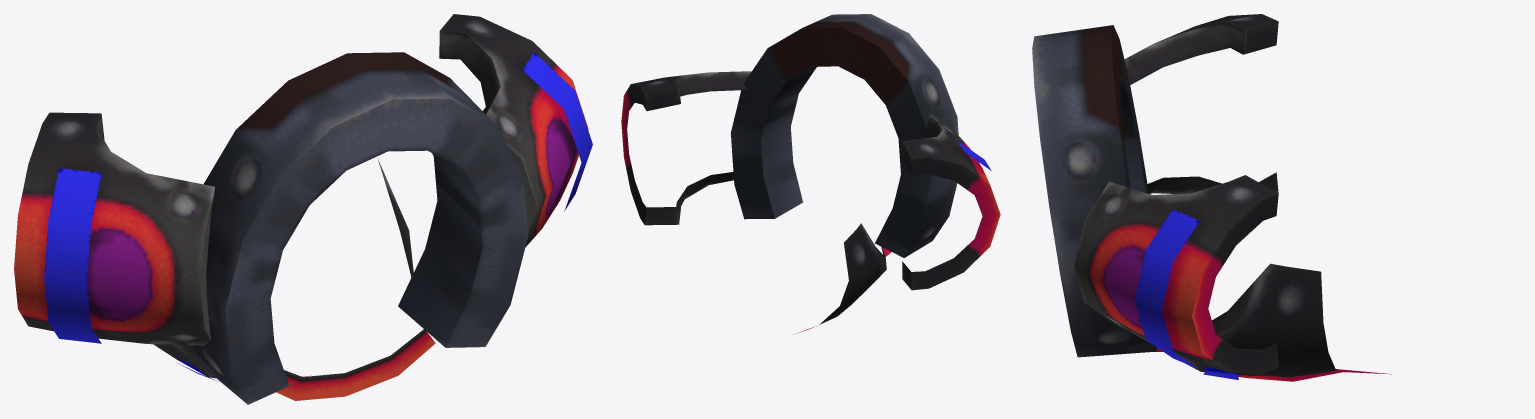
Rendered from Part_Ranger_chest.glb.
3 views of the same model, side by side, from view 1: azimuth 30°, elevation 25°; view 2: azimuth 150°, elevation 25°; view 3: azimuth 270°, elevation 25° (orthographic). The views are drawn at different scales.
Parts seen in each view (by area): view 1: parts.model_r_chest_fixed-Mesh[0]; view 2: parts.model_r_chest_fixed-Mesh[0]; view 3: parts.model_r_chest_fixed-Mesh[0].
Boxes of the visible parts, box(x1,y1,x2,y2) form: parts.model_r_chest_fixed-Mesh[0]: box(14, 14, 592, 404); parts.model_r_chest_fixed-Mesh[0]: box(621, 14, 1000, 333); parts.model_r_chest_fixed-Mesh[0]: box(1032, 14, 1391, 381).
Size of the model in its own units: 0.6016 by 0.3902 by 0.5077.
1 material, 1 textured.
